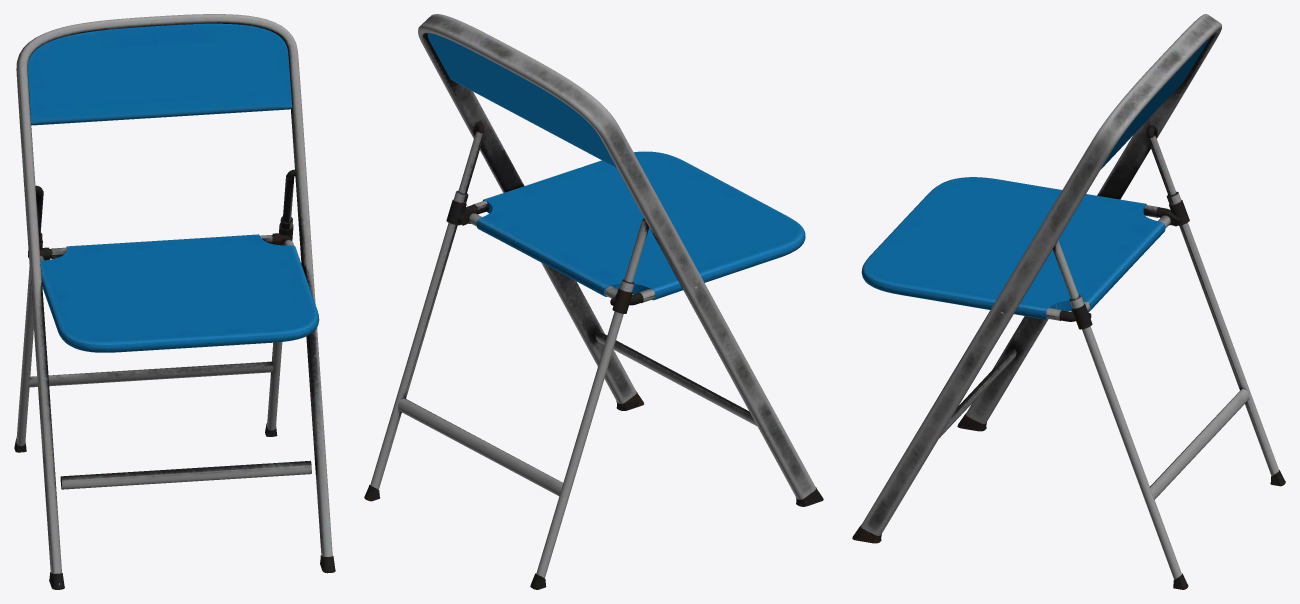
The picture shows the model from 3 angles, left to right: view 1: azimuth 30°, elevation 25°; view 2: azimuth 150°, elevation 25°; view 3: azimuth 270°, elevation 25°; orthographic projection. The views are drawn at different scales.
Visible parts, largest first — view 1: Object_4, Object_3, Object_5, Object_2; view 2: Object_4, Object_3, Object_5, Object_2; view 3: Object_4, Object_3, Object_5, Object_2.
Part boxes in pixels (x1,y1,x2,y2): Object_4: [14, 23, 335, 589]; Object_3: [16, 14, 332, 573]; Object_5: [16, 25, 334, 589]; Object_2: [15, 26, 334, 589]; Object_4: [364, 33, 823, 589]; Object_3: [418, 14, 815, 499]; Object_5: [364, 122, 822, 588]; Object_2: [364, 133, 823, 589]; Object_4: [853, 37, 1285, 589]; Object_3: [861, 14, 1221, 535]; Object_5: [853, 126, 1284, 588]; Object_2: [852, 138, 1285, 589].
Bounding box in the file's own units: 675 × 888 × 740.
1 material, 1 textured.
